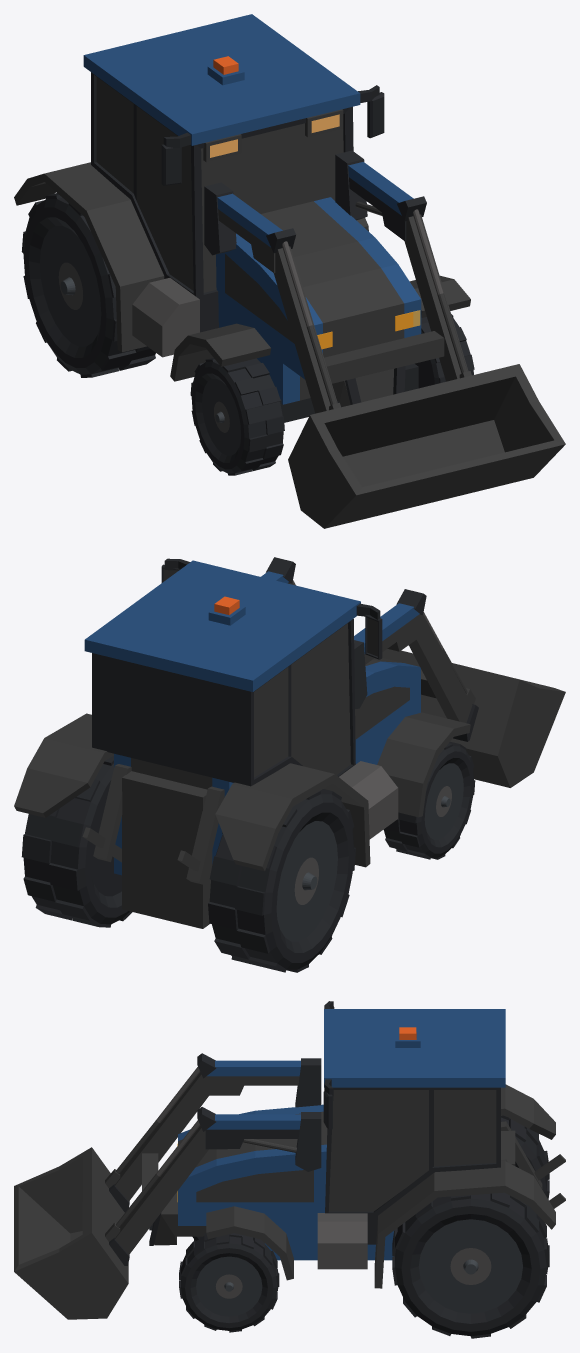
Rendered from TractorDigger_2.fbx.
3 renders of one model, top to bottom at view 1: azimuth 30°, elevation 25°; view 2: azimuth 150°, elevation 25°; view 3: azimuth 270°, elevation 25°, orthographic. The views are drawn at different scales.
Parts seen in each view (by area): view 1: TractorDigger_2, Digger_2, TractorDiggerBackWheels_2, TractorDiggerFrontWheels_2; view 2: TractorDigger_2, TractorDiggerBackWheels_2, Digger_2, TractorDiggerFrontWheels_2; view 3: TractorDigger_2, Digger_2, TractorDiggerBackWheels_2, TractorDiggerFrontWheels_2.
Part boxes in pixels (x1=…): TractorDigger_2: x1=14, y1=14, x2=470, y2=422; Digger_2: x1=204, y1=150, x2=565, y2=528; TractorDiggerBackWheels_2: x1=21, y1=193, x2=155, y2=377; TractorDiggerFrontWheels_2: x1=190, y1=314, x2=474, y2=475; TractorDigger_2: x1=14, y1=558, x2=470, y2=928; TractorDiggerBackWheels_2: x1=21, y1=755, x2=355, y2=972; Digger_2: x1=261, y1=557, x2=565, y2=787; TractorDiggerFrontWheels_2: x1=383, y1=741, x2=475, y2=859; TractorDigger_2: x1=149, y1=1001, x2=565, y2=1288; Digger_2: x1=14, y1=1053, x2=321, y2=1319; TractorDiggerBackWheels_2: x1=392, y1=1115, x2=549, y2=1338; TractorDiggerFrontWheels_2: x1=179, y1=1233, x2=279, y2=1332.
Size of the model in its own units: 294 by 347 by 670.
